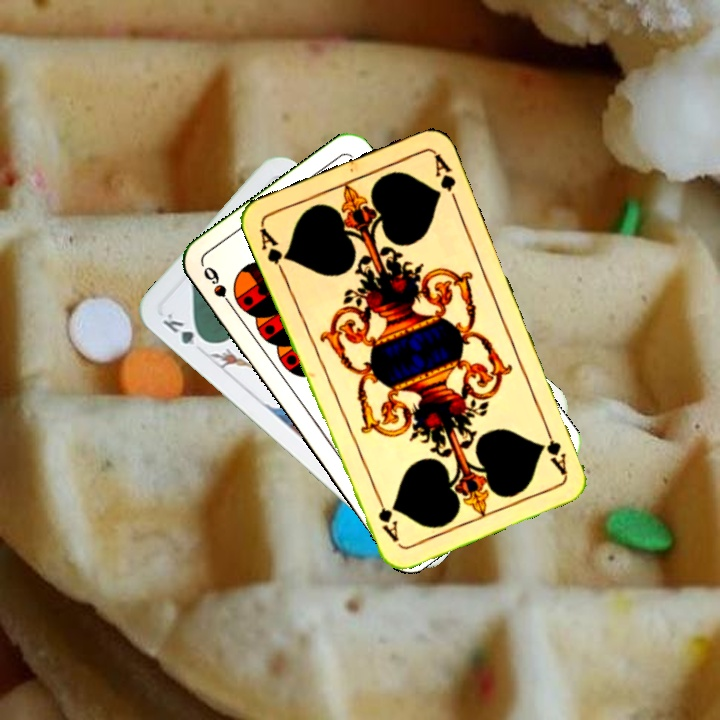GA: (255, 224, 292, 279), (539, 420, 570, 477)
GK: (158, 309, 211, 348)
S9: (199, 262, 239, 315)
